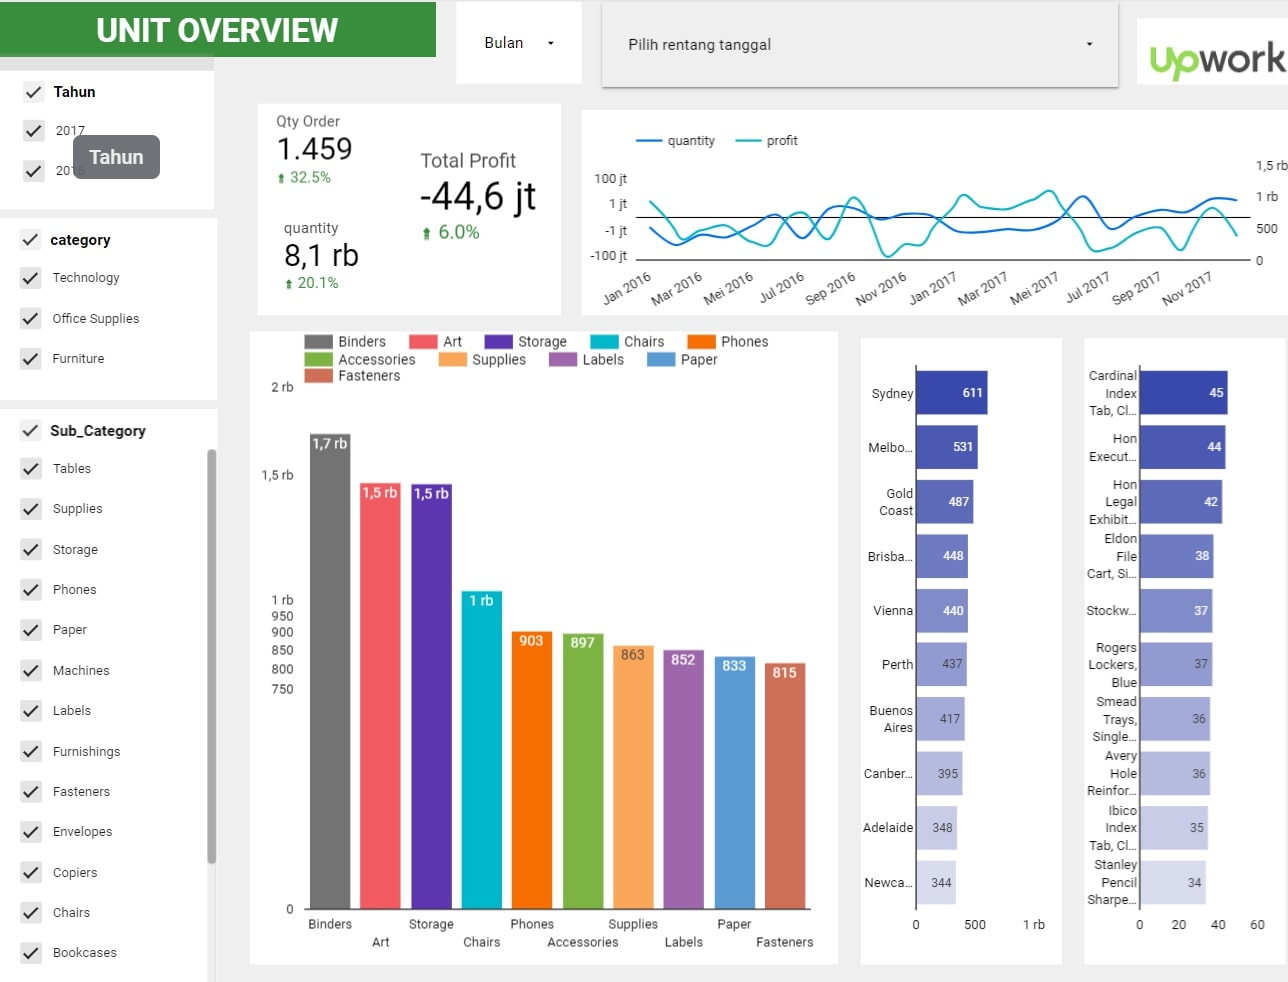

Layout of this report page (visuals, bound fields, positions):
{"tool":"powerbi","page":{"name":"SO by Unit","canvas":[1280,720],"ordinal":1},"visuals":[{"type":"textbox","box":[11,26.2,286.3,68.8],"z":0},{"type":"slicer","fields":{"Values":["FACT_CustTrx.category"]},"box":[11,199.6,199.6,104.6],"z":1000},{"type":"lineChart","title":"Sales by Month","fields":{"Category":["FACT_CustTrx.Order Date.Variasi.Hierarki Tanggal.Bulan"],"Y":["Sum(FACT_CustTrx.quantity)"],"Y2":["Sum(FACT_CustTrx.profit)"]},"box":[743.2,106,521.6,264.3],"z":2000},{"type":"slicer","fields":{"Values":["FACT_CustTrx.Sub-Category"]},"box":[11,316.6,199.6,377.1],"z":3000},{"type":"slicer","fields":{"Values":["FACT_CustTrx.Order Date.Variasi.Hierarki Tanggal.Tahun"]},"box":[11,106,199.6,79.8],"z":4000},{"type":"slicer","fields":{"Values":["FACT_CustTrx.Order Date.Variasi.Hierarki Tanggal.Bulan"]},"box":[297.3,26.2,967.6,68.8],"z":5000},{"type":"clusteredBarChart","title":"Sales by City","fields":{"Category":["FACT_CustTrx.city"],"Y":["Sum(FACT_CustTrx.quantity)"]},"box":[743.2,379.9,261.5,313.8],"z":6000},{"type":"donutChart","title":"Sales by Category","fields":{"Category":["FACT_CustTrx.Sub-Category"],"Y":["Sum(FACT_CustTrx.quantity)"]},"box":[217.5,264.3,518.9,429.4],"z":7000},{"type":"clusteredBarChart","title":"Sales by Product","fields":{"Category":["FACT_CustTrx.Product Name"],"Y":["Sum(FACT_CustTrx.quantity)"]},"box":[1014.4,379.9,250.5,313.8],"z":8000},{"type":"BBED0A4D4D8D44CE93CF2DAFADEE466C","fields":{"actual":["Sum(FACT_CustTrx.quantity)"]},"box":[217.5,106,518.9,148.6],"z":9000}]}

Visuals, with their boxes on the page's 1280x720 design canvas (x1, y1, x2, y2). These are canvas units, not pixel positions in the 1288x982 screenshot, which may show the page scaled, cropped or inside an application window:
textbox: Rect(11, 26, 297, 95)
slicer - FACT_CustTrx.category: Rect(11, 200, 211, 304)
"Sales by Month" lineChart: Rect(743, 106, 1265, 370)
slicer - FACT_CustTrx.Sub-Category: Rect(11, 317, 211, 694)
slicer - FACT_CustTrx.Order Date.Variasi.Hierarki Tanggal.Tahun: Rect(11, 106, 211, 186)
slicer - FACT_CustTrx.Order Date.Variasi.Hierarki Tanggal.Bulan: Rect(297, 26, 1265, 95)
"Sales by City" clusteredBarChart: Rect(743, 380, 1005, 694)
"Sales by Category" donutChart: Rect(218, 264, 736, 694)
"Sales by Product" clusteredBarChart: Rect(1014, 380, 1265, 694)
BBED0A4D4D8D44CE93CF2DAFADEE466C - Sum(FACT_CustTrx.quantity): Rect(218, 106, 736, 255)
